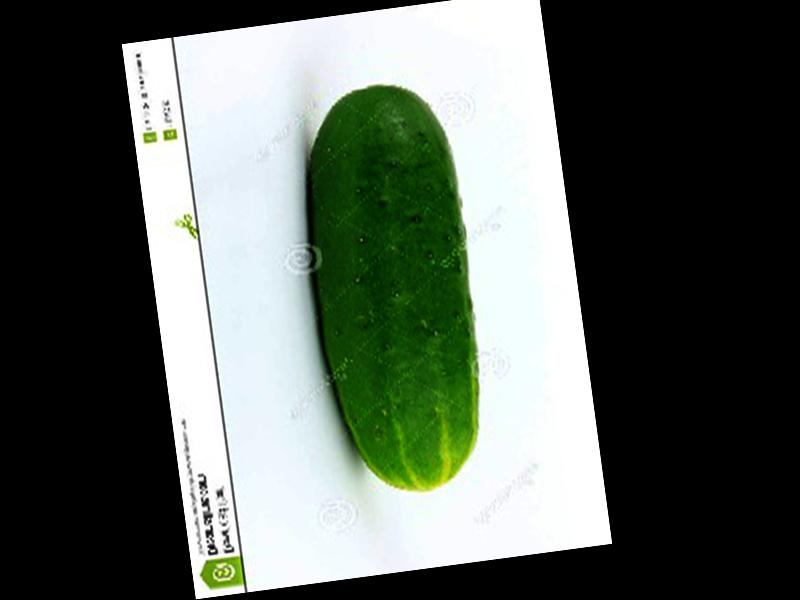Cucumber: (288, 75, 494, 499)
